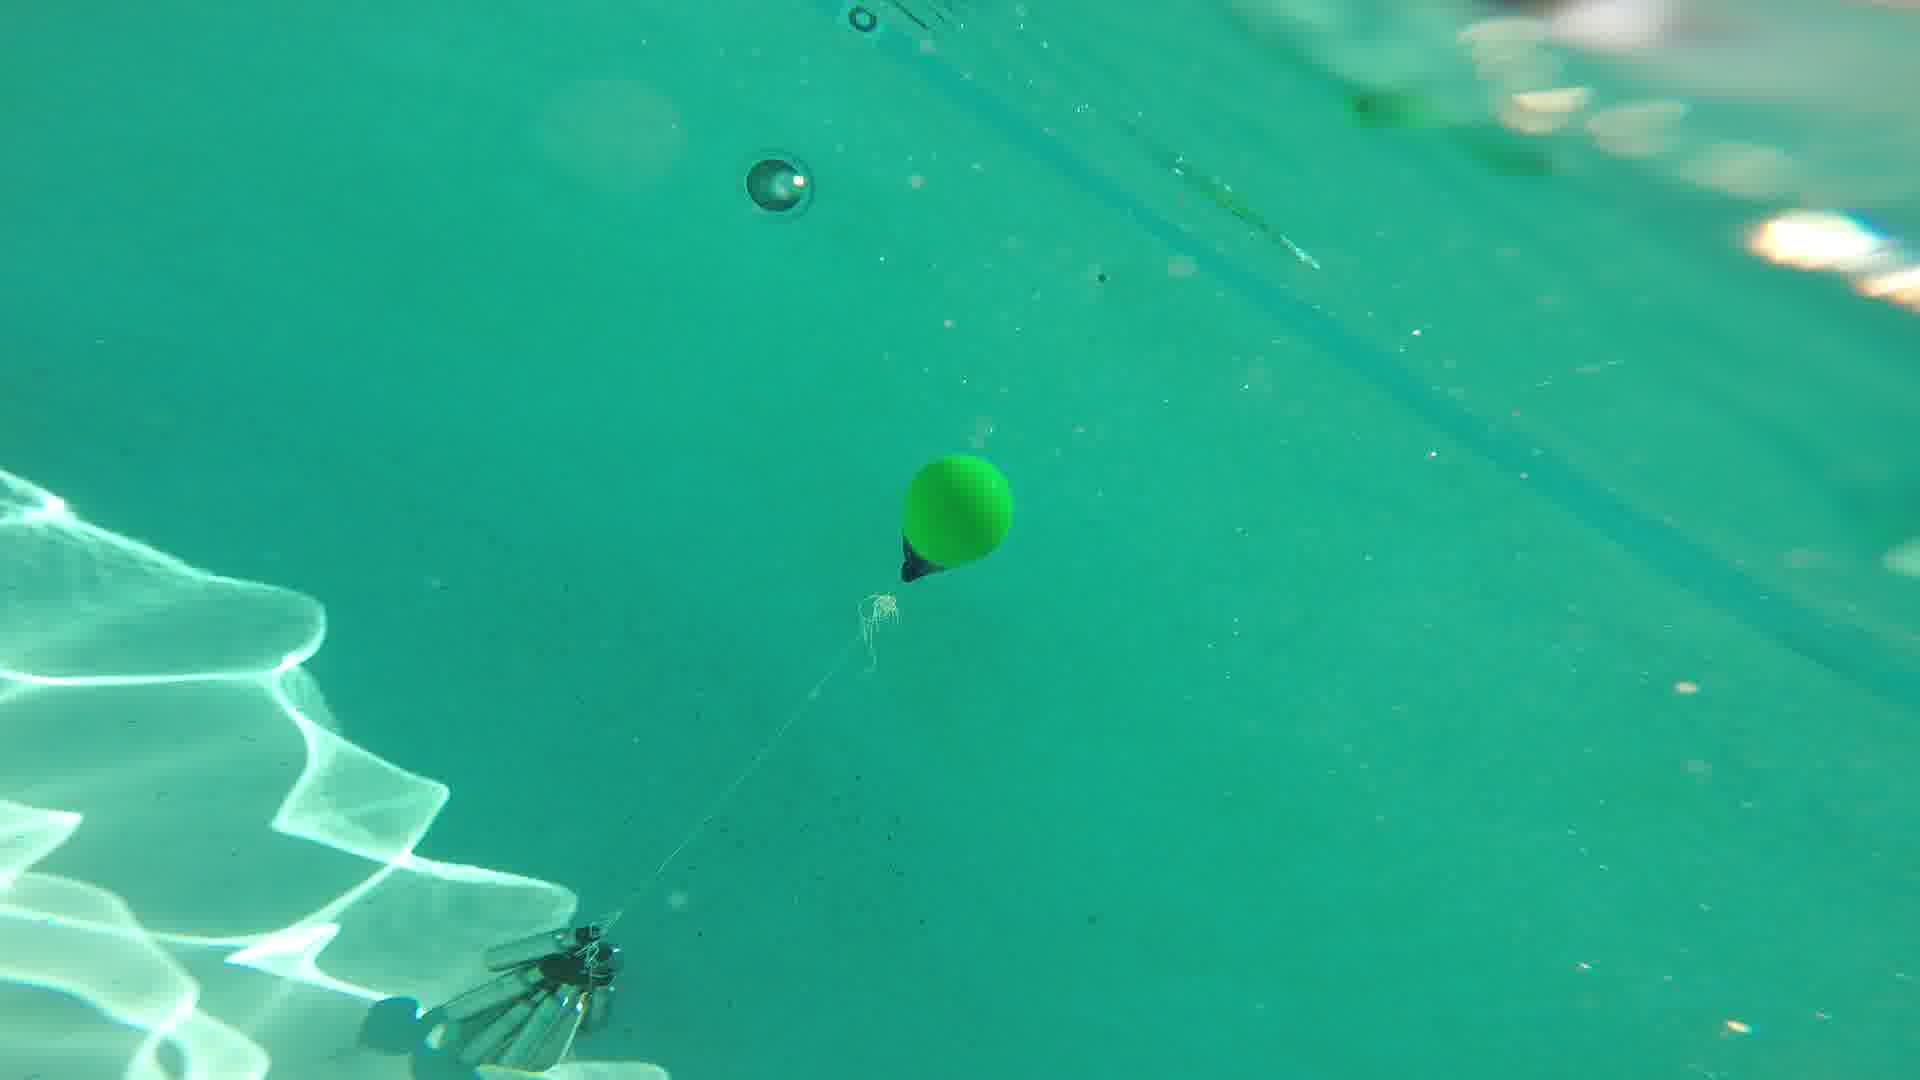yellow_buoy: (899, 454, 1017, 585)
